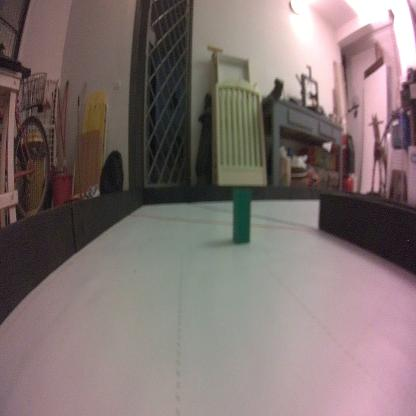green: (232, 187, 252, 245)
